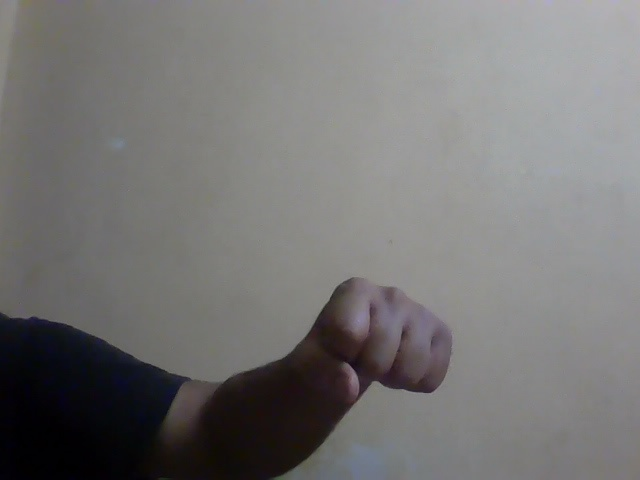Yes: (280, 255, 474, 434)
